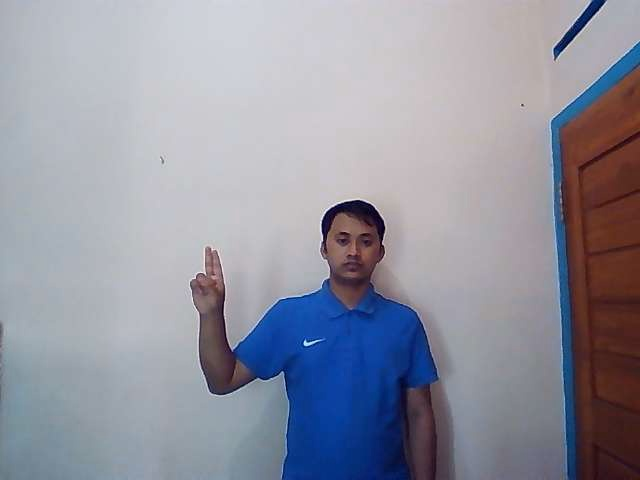U: (188, 246, 227, 312)
